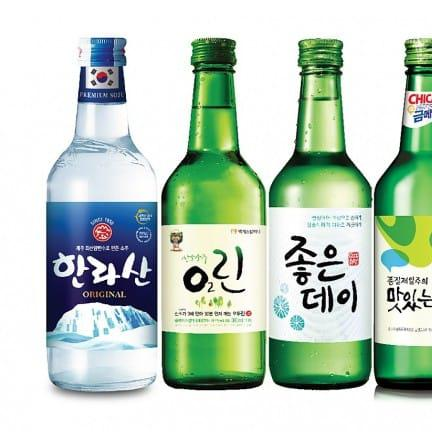soju: (43, 31, 432, 399)
